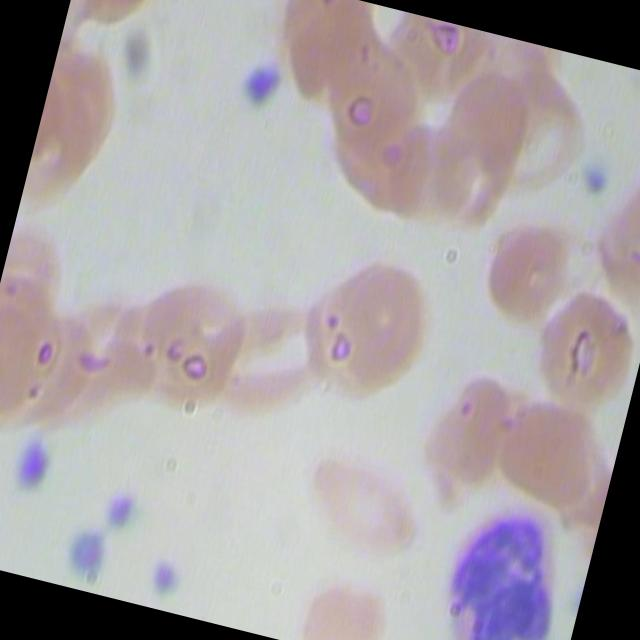Platelets: (4, 423, 72, 508), (57, 515, 122, 587), (232, 51, 293, 111), (138, 551, 198, 607), (98, 486, 142, 538), (577, 159, 616, 203)
RBC: (283, 246, 439, 417), (120, 262, 272, 419), (403, 356, 528, 529), (484, 384, 625, 530), (206, 276, 346, 422), (291, 436, 440, 569), (521, 269, 640, 420), (468, 208, 578, 332), (283, 555, 420, 640)
WBC: (421, 481, 596, 640)
